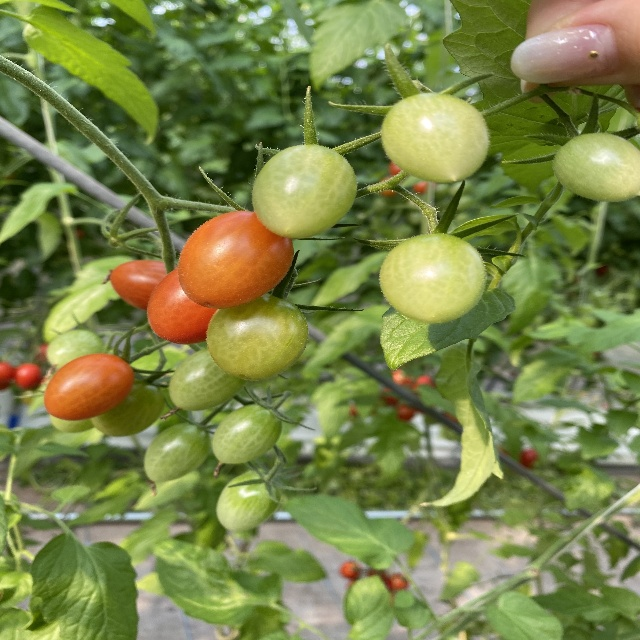l_fully_ripened: (148, 267, 218, 344)
l_green: (251, 144, 356, 239), (381, 93, 488, 183), (379, 233, 487, 322), (552, 132, 640, 202), (170, 348, 248, 411), (89, 379, 164, 437), (213, 403, 283, 464), (216, 469, 282, 530), (146, 422, 212, 482), (47, 329, 104, 369)
l_half_ripened: (178, 211, 295, 309), (207, 293, 308, 381), (44, 353, 136, 422), (109, 259, 167, 312)
